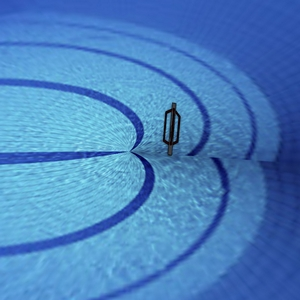submarine: (152, 86, 198, 169)
